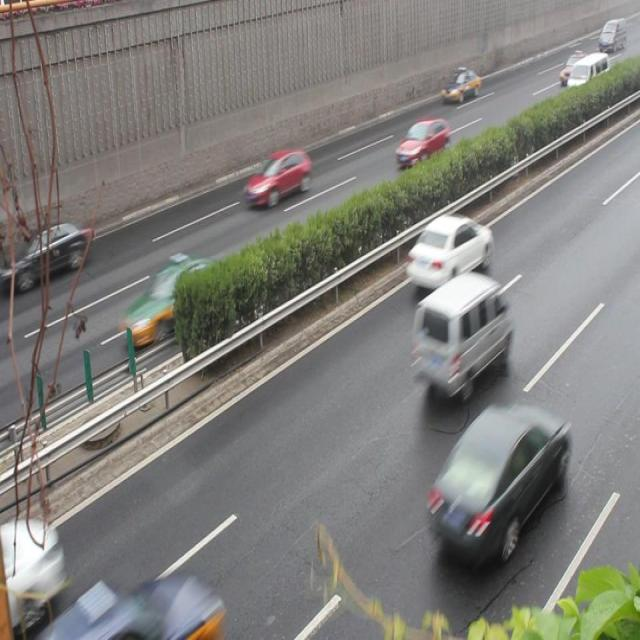car: (426, 402, 564, 562), (55, 567, 213, 640), (120, 258, 232, 342), (406, 212, 490, 288), (18, 219, 88, 287), (243, 150, 310, 208), (394, 117, 449, 167), (440, 67, 480, 106)
truck: (409, 272, 510, 394), (565, 51, 609, 105)
